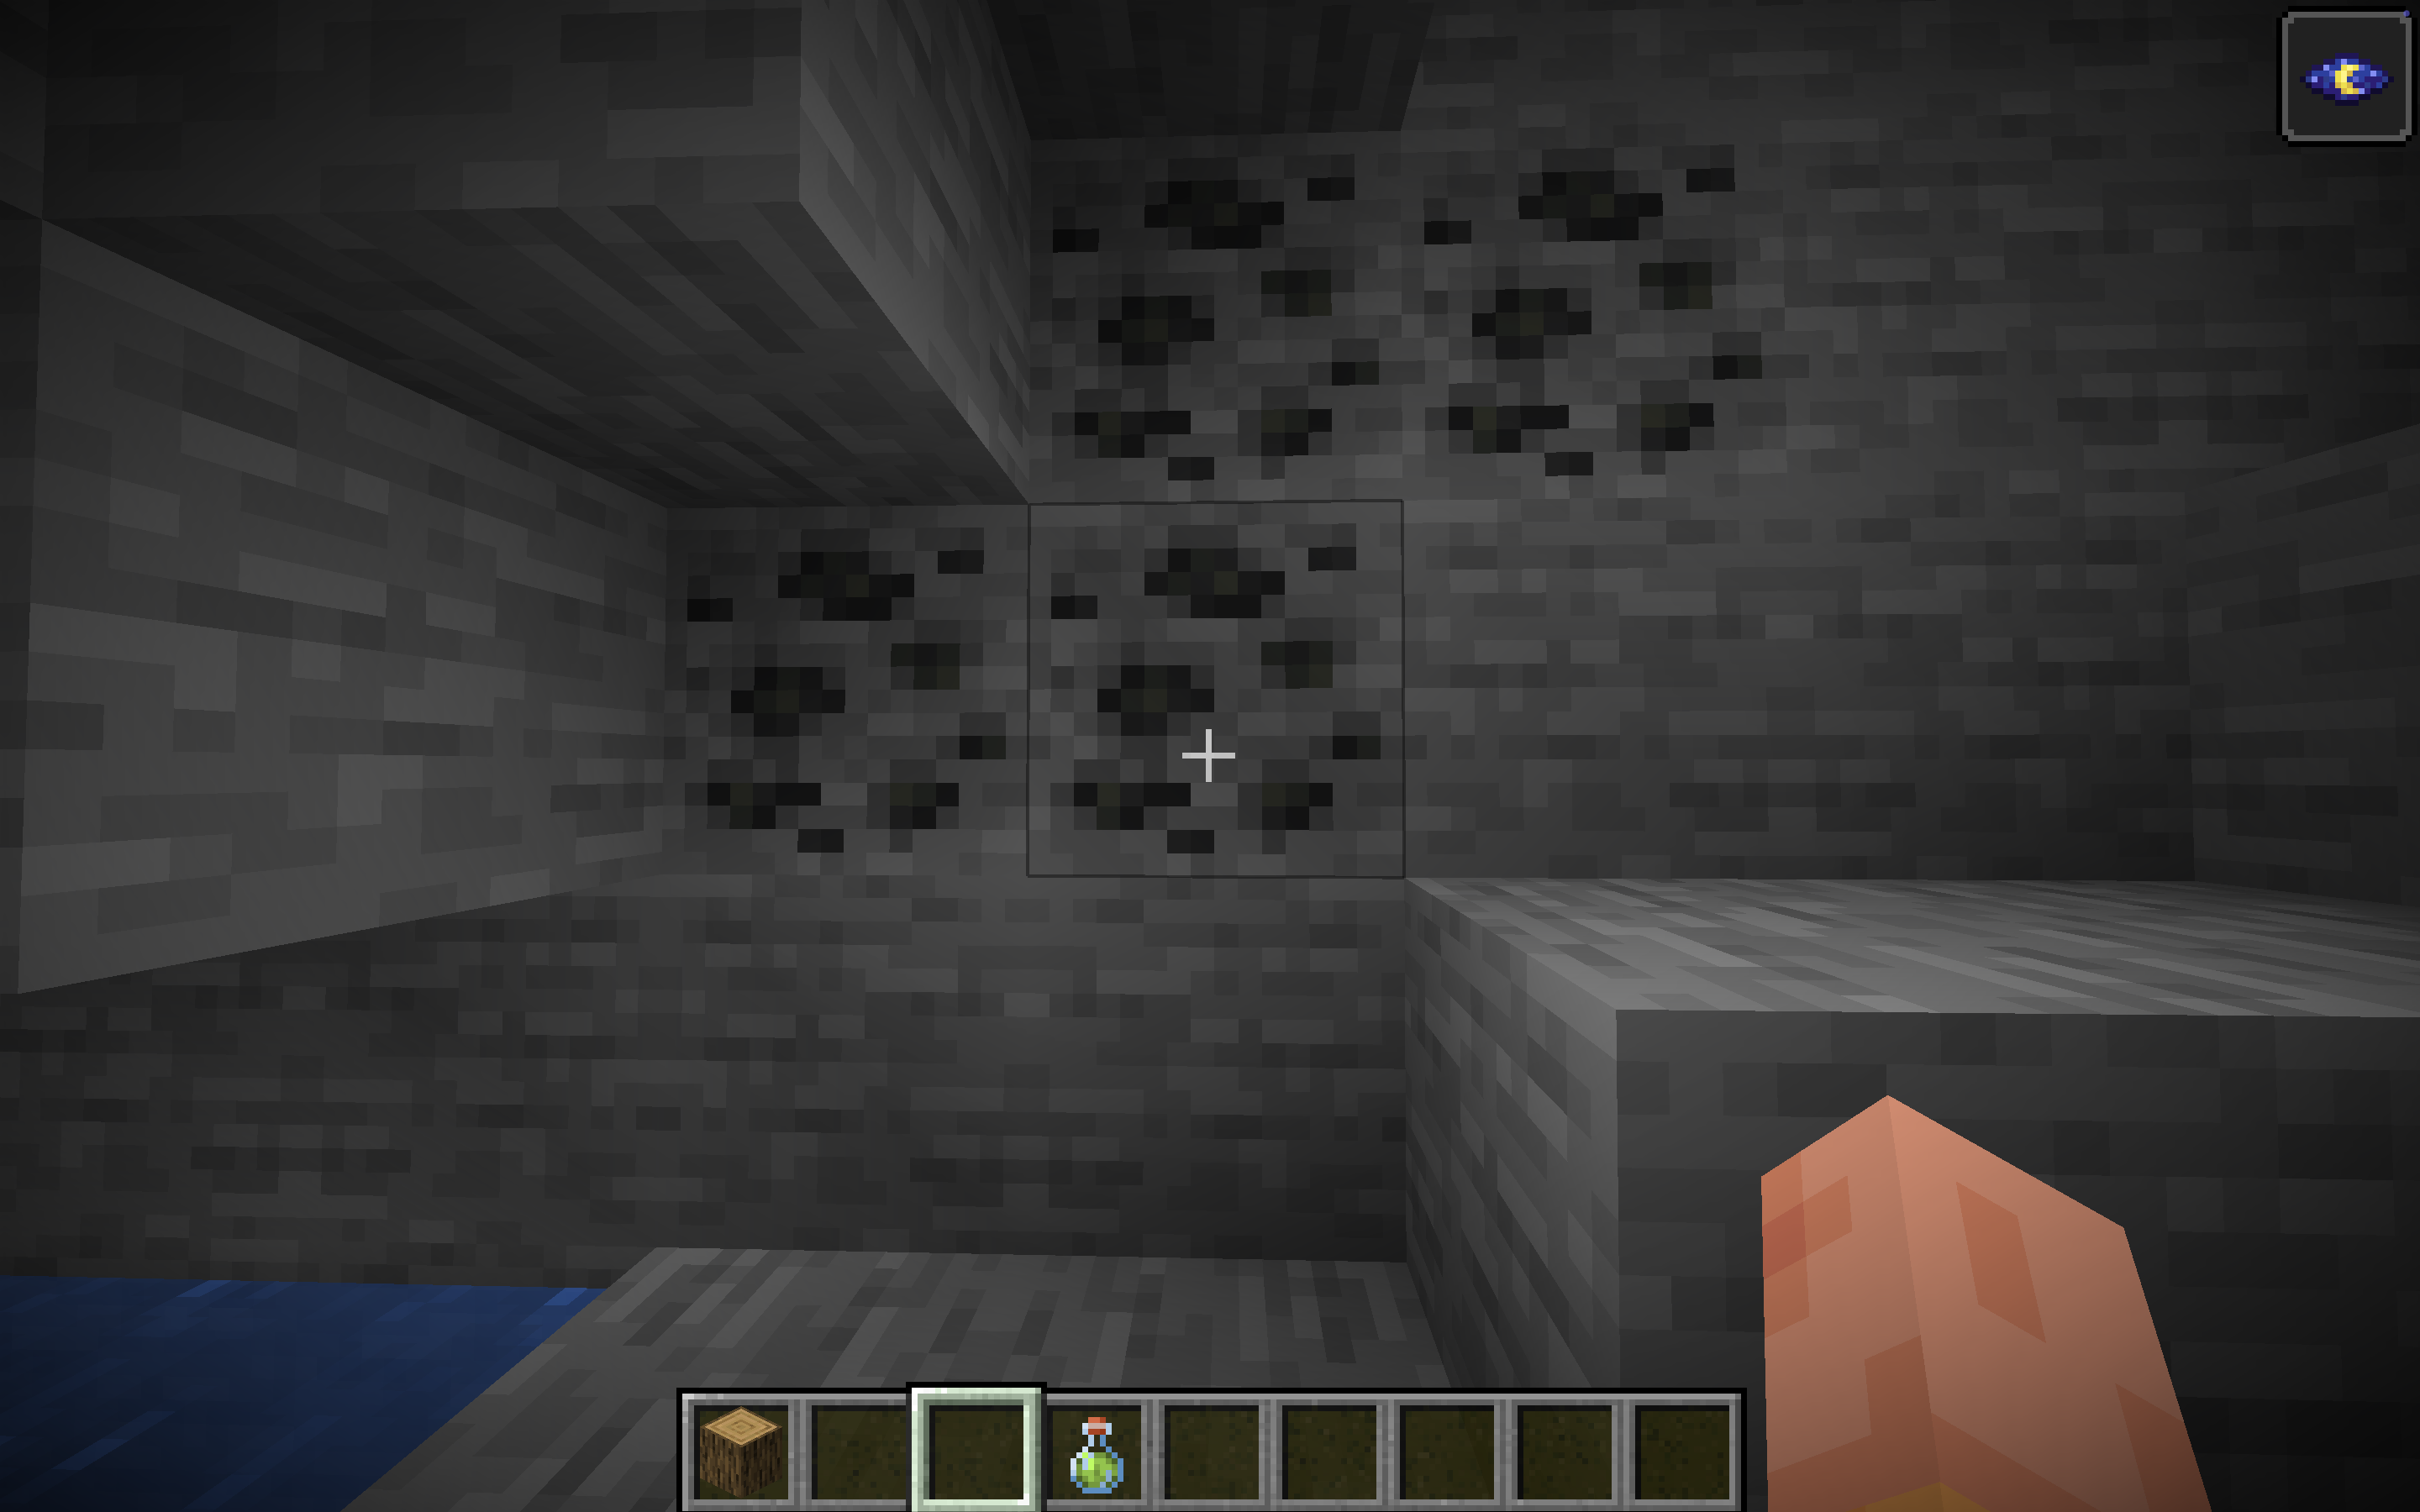coal: (354, 118, 1939, 915)
